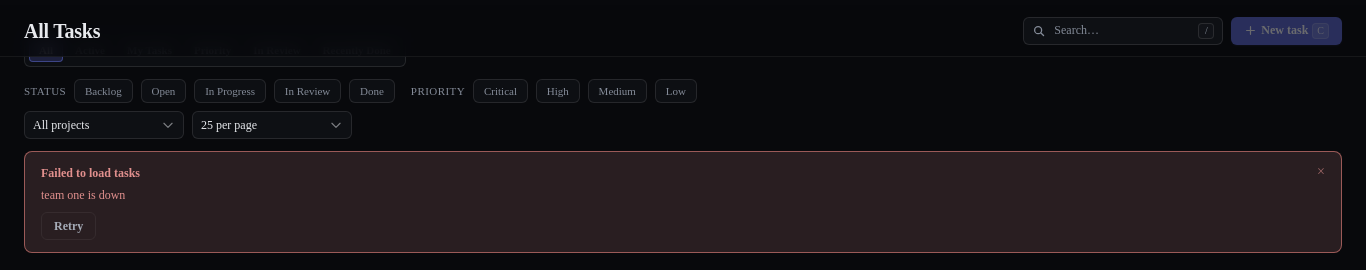
Test case: /tasks: dismissing a load error › without a list for the team shows no loading state and starts no request
expect the text "team one is down" is shown: met, box [41,188,125,202]
Step 1. Click the button named "Dismiss" → [1321, 172], box [1309,160,1333,184]
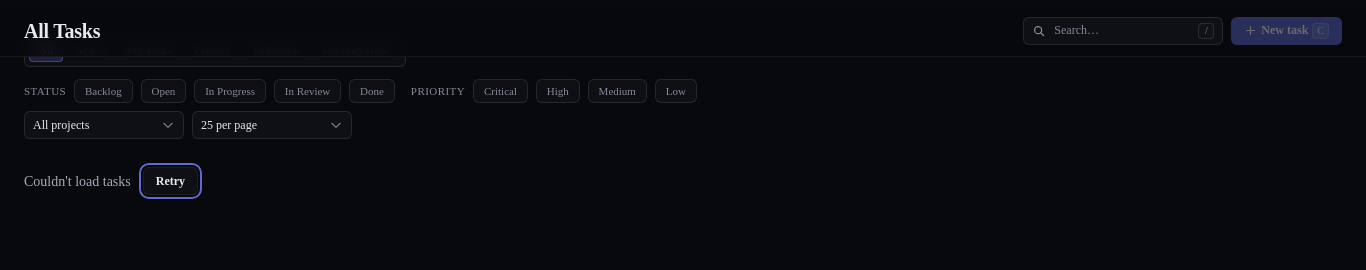
expect the button "New task C" is disabled: met, box [1231,16,1342,44]
expect the text "team one is down" is gone: met
